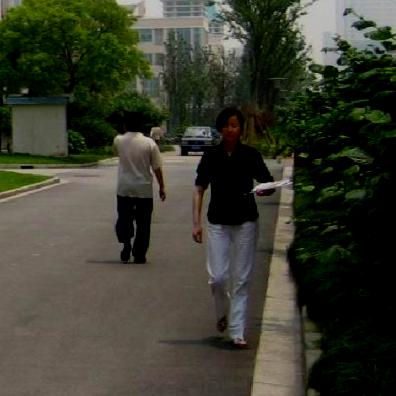ped: (193, 108, 278, 347), (114, 114, 166, 263)
